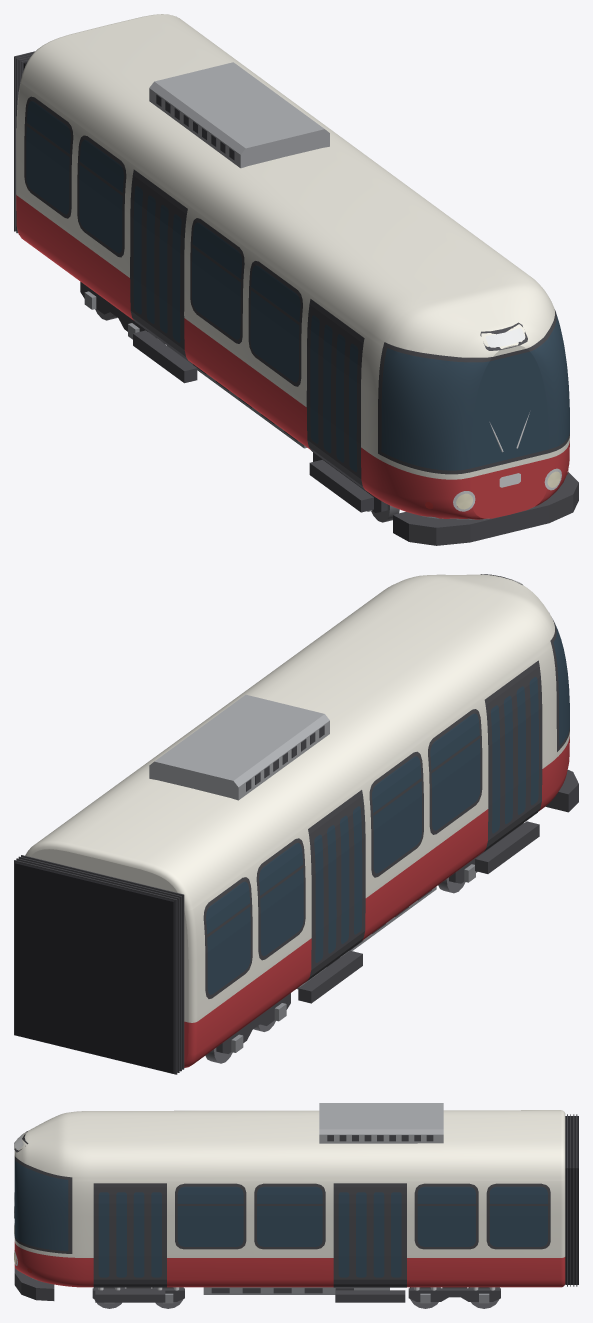
Rendered from 314_close.fbx.
3 views of the same model, one above another, from view 1: azimuth 30°, elevation 25°; view 2: azimuth 150°, elevation 25°; view 3: azimuth 270°, elevation 25° (orthographic). The views are drawn at different scales.
Parts seen in each view (by area): view 1: 314_close; view 2: 314_close; view 3: 314_close.
Boxes of the visible parts, x1=… form: 314_close: x1=14, y1=14, x2=578, y2=545; 314_close: x1=14, y1=574, x2=578, y2=1074; 314_close: x1=14, y1=1103, x2=578, y2=1308.
Bounding box in the file's own units: 2.53 × 3.37 × 10.01.
